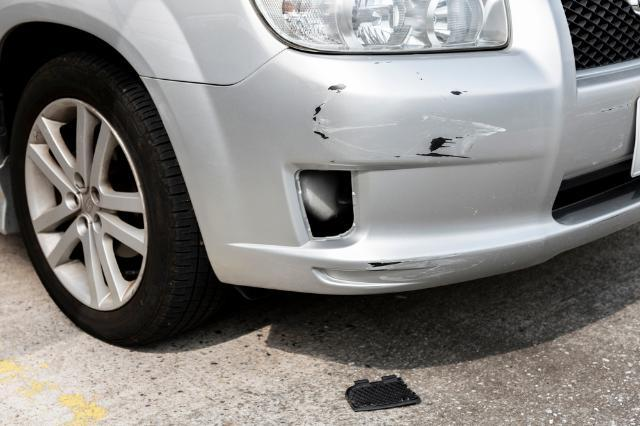scratch: (311, 83, 511, 167), (368, 250, 486, 285), (578, 100, 633, 166)
